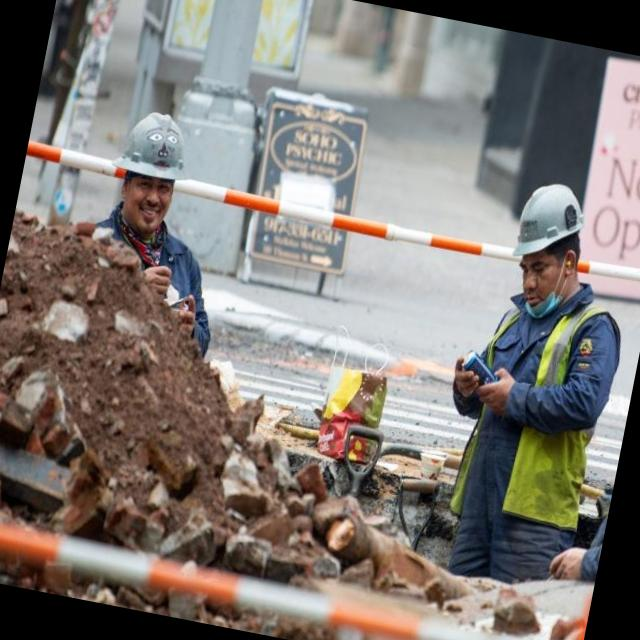Helmet: (103, 98, 203, 194)
Vest: (450, 292, 621, 540)
